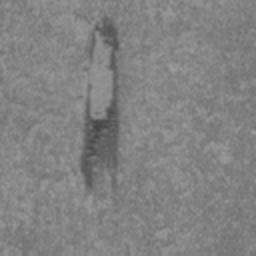Oxide scale of plate system: (78, 14, 122, 202)
